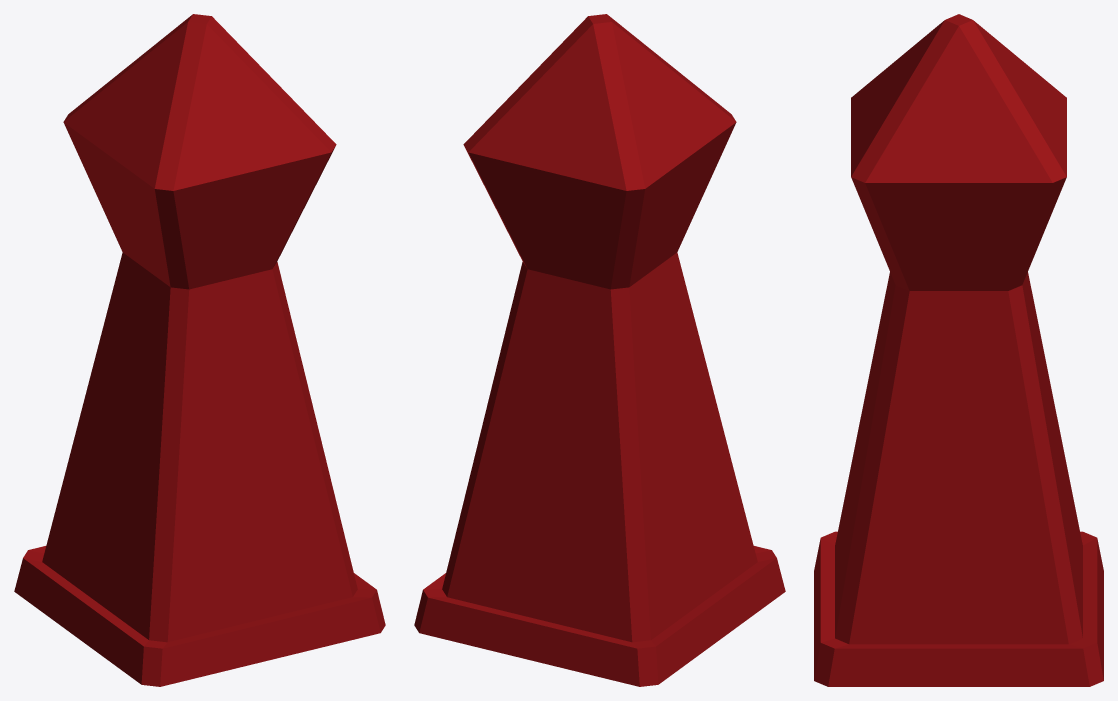
File: FichaBásica.fbx
3 views of the same model, side by side, from view 1: azimuth 30°, elevation 25°; view 2: azimuth 150°, elevation 25°; view 3: azimuth 270°, elevation 25° (orthographic). The views are drawn at different scales.
Visible parts, largest first — view 1: Cube; view 2: Cube; view 3: Cube.
Boxes of the visible parts, left/top/right/bottom form: Cube: left=14, top=14, right=385, bottom=686; Cube: left=414, top=14, right=785, bottom=686; Cube: left=814, top=14, right=1103, bottom=686.
Size of the model in its own units: 14.57 by 33.61 by 14.57.
